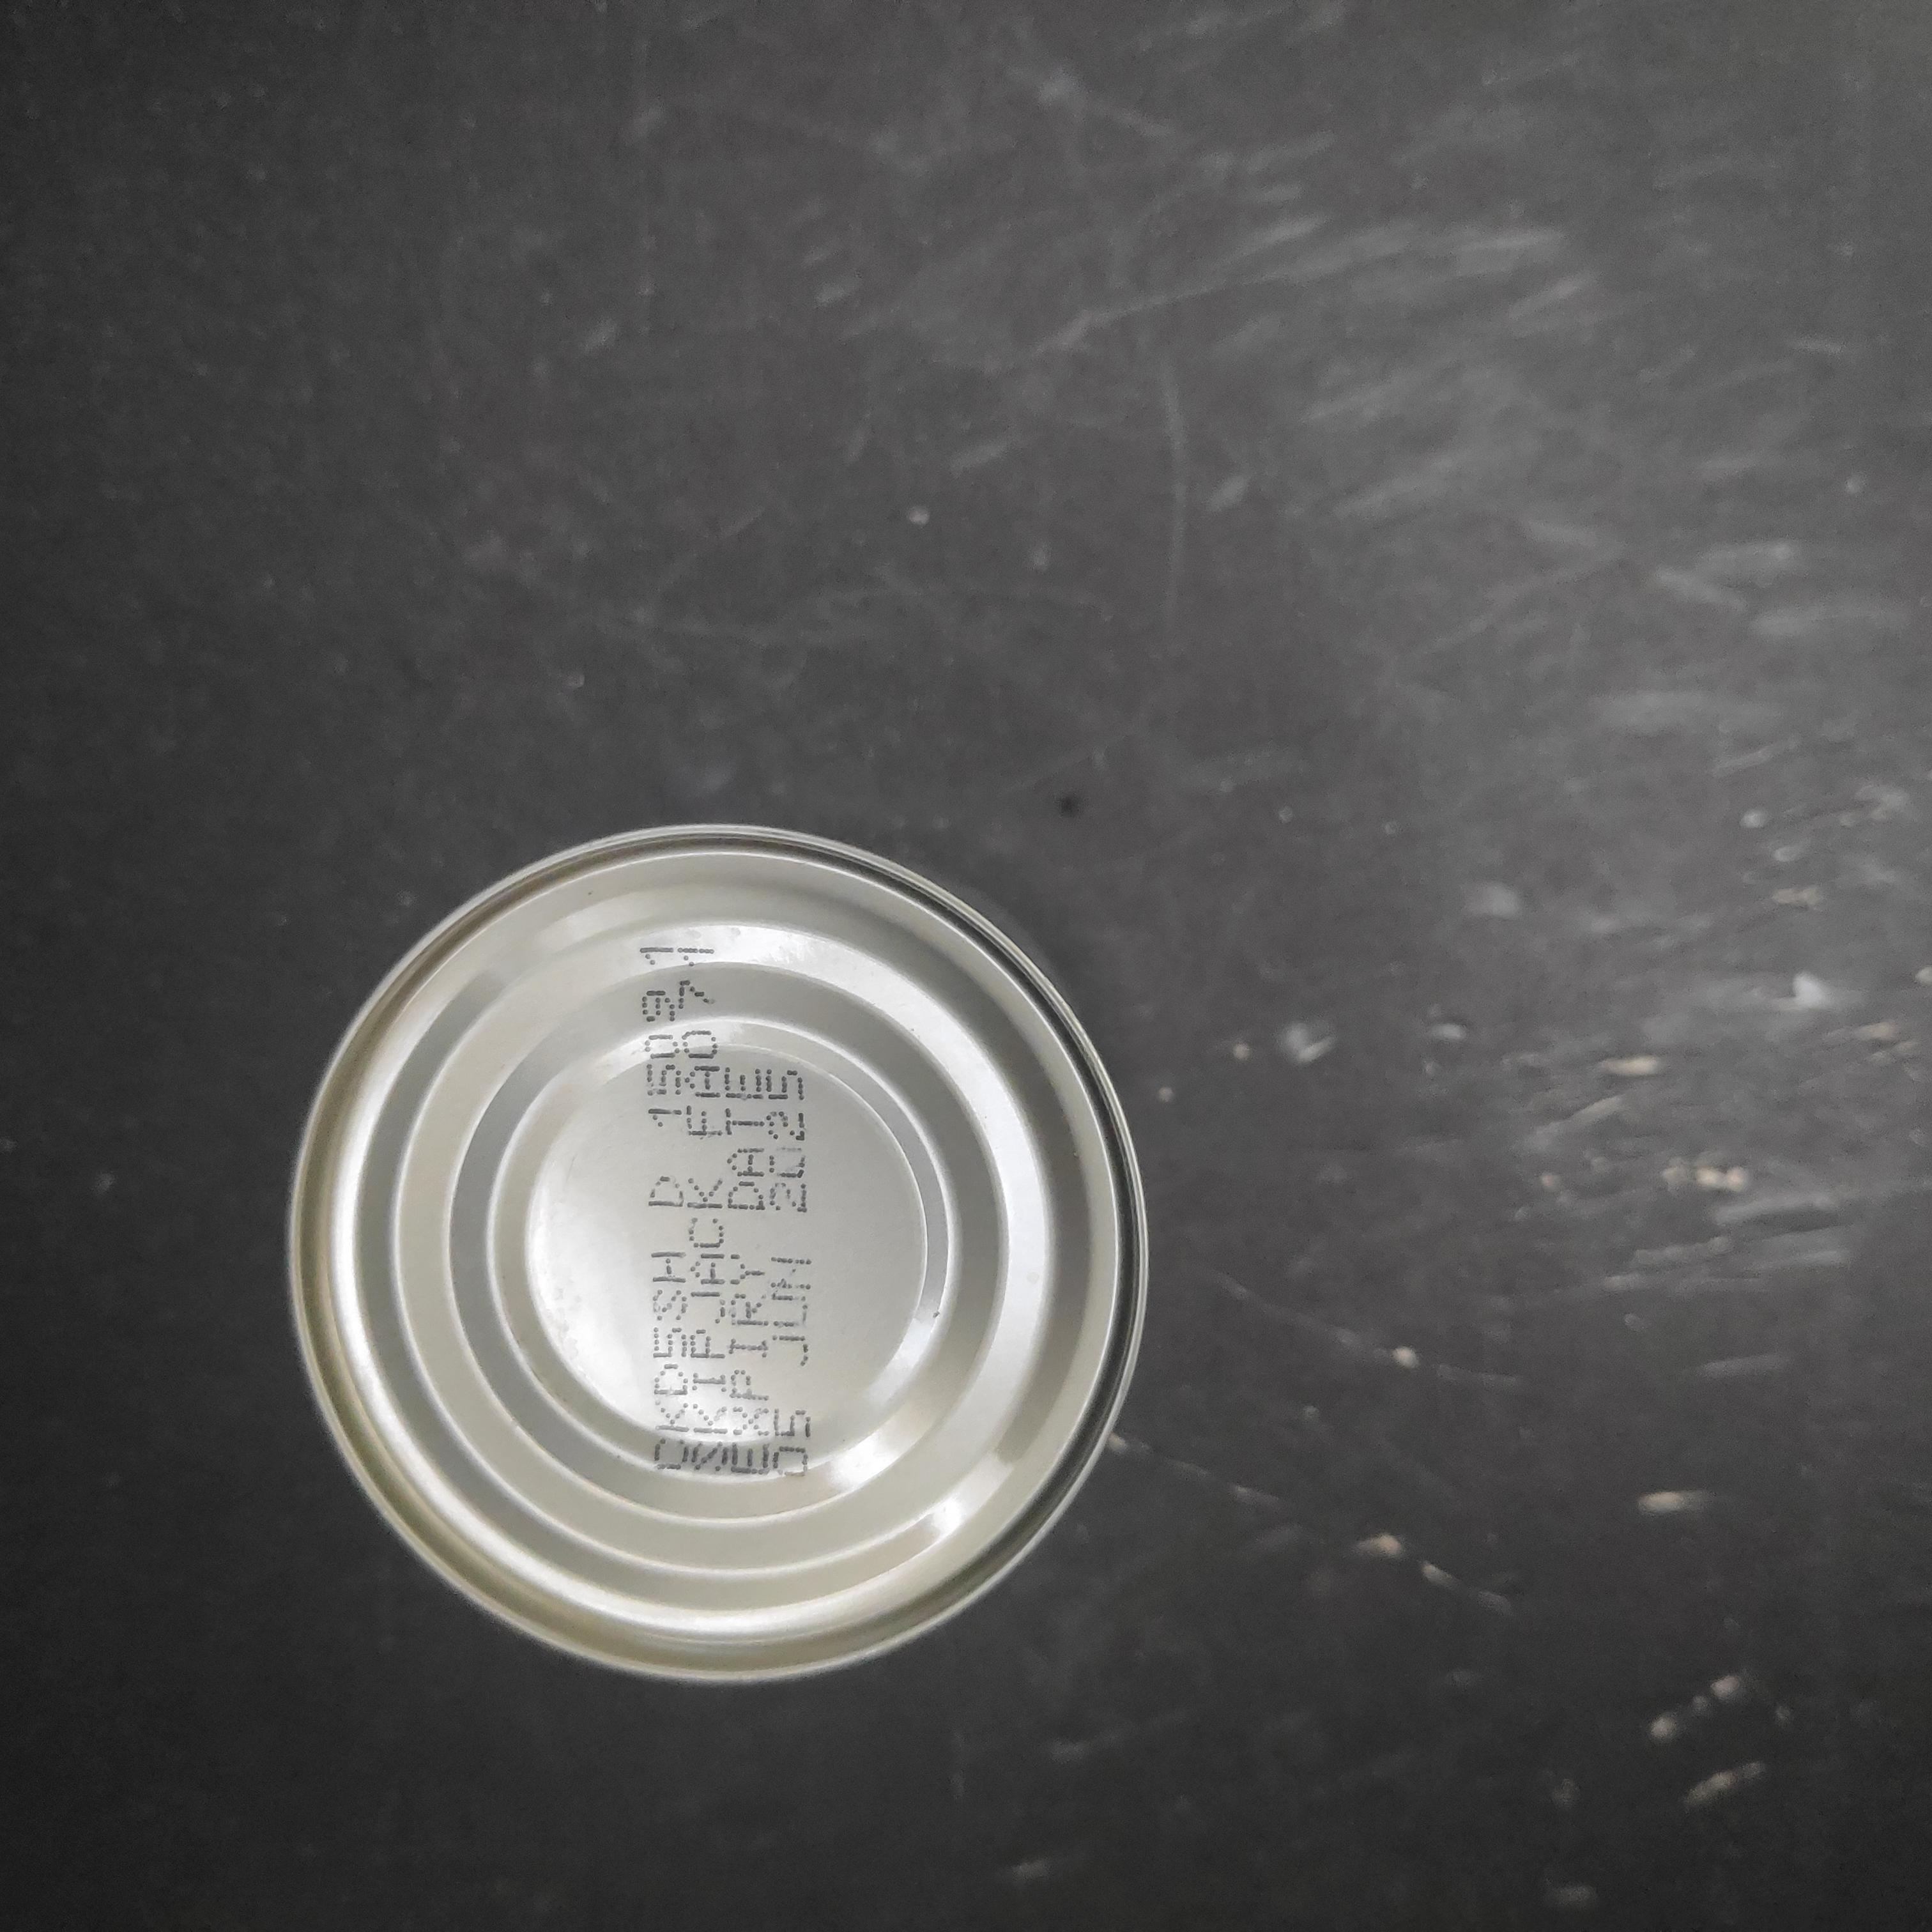No defect: (777, 244, 1651, 1115)
